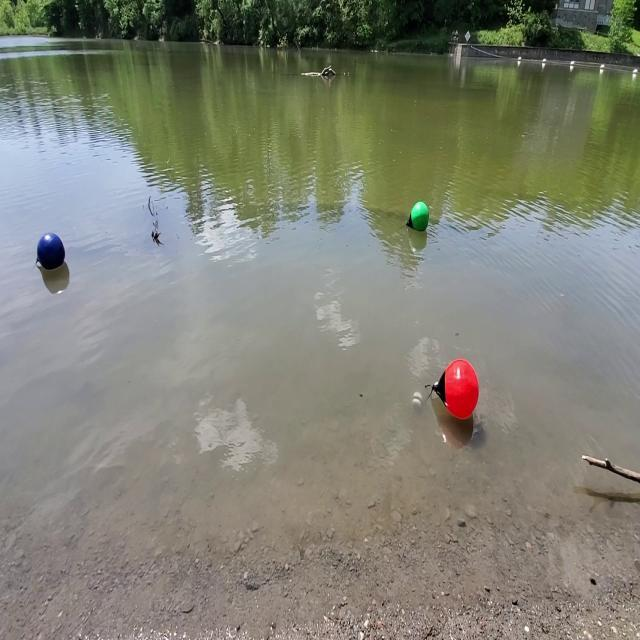buoy: (423, 358, 480, 426), (34, 228, 68, 274), (404, 200, 431, 233)
